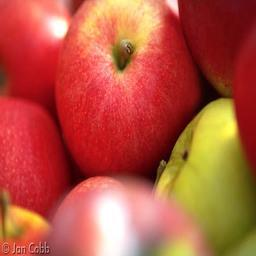apple: (53, 3, 203, 186), (160, 95, 253, 254)
